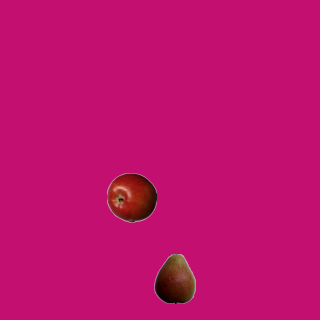Apple Braeburn: (106, 172, 156, 222)
Pear Forelle: (149, 253, 199, 303)
